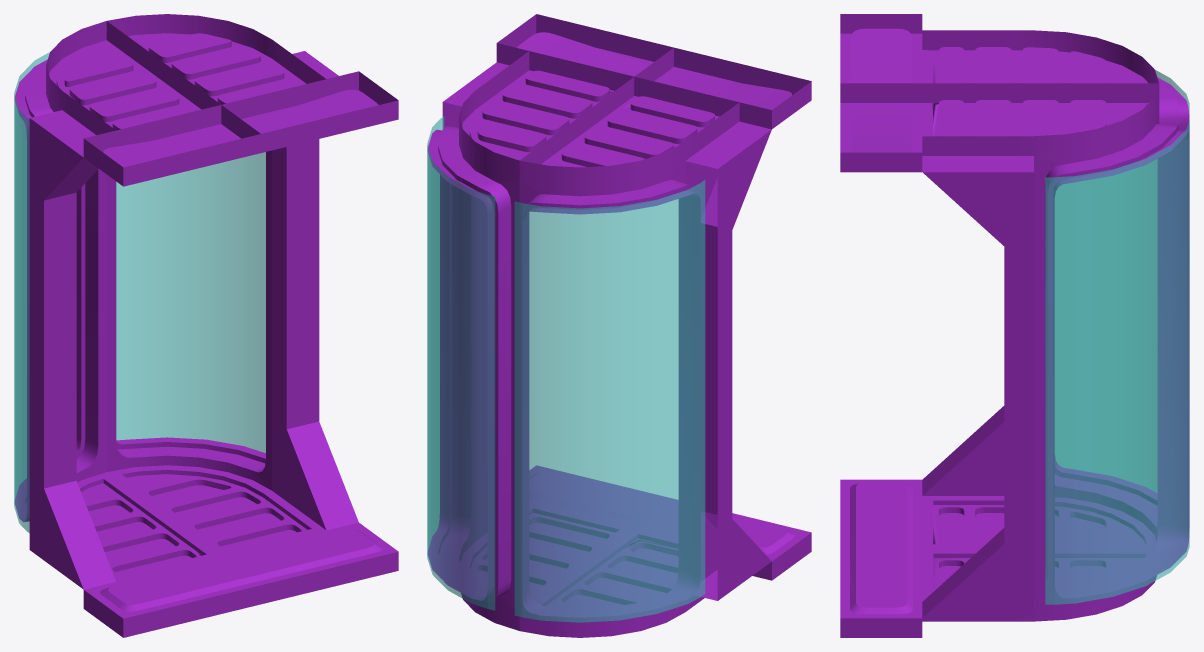
File: CBig_Wall_WinSmall_A.FBX
3 renders of one model, left to right at view 1: azimuth 30°, elevation 25°; view 2: azimuth 150°, elevation 25°; view 3: azimuth 270°, elevation 25°, orthographic. The views are drawn at different scales.
Visible parts, largest first — view 1: CBig_Wall_WinSmall_A; view 2: CBig_Wall_WinSmall_A; view 3: CBig_Wall_WinSmall_A.
Boxes of the visible parts, left/top/right/bottom form: CBig_Wall_WinSmall_A: left=14, top=14, right=398, bottom=637; CBig_Wall_WinSmall_A: left=427, top=14, right=811, bottom=637; CBig_Wall_WinSmall_A: left=840, top=14, right=1189, bottom=637.
Bounding box in the file's own units: 300 × 490 × 319.
